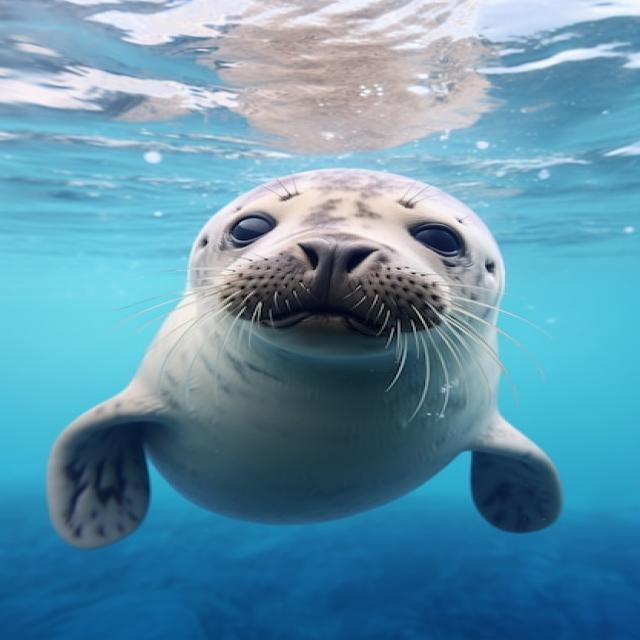WaterDog: (40, 161, 582, 553)
